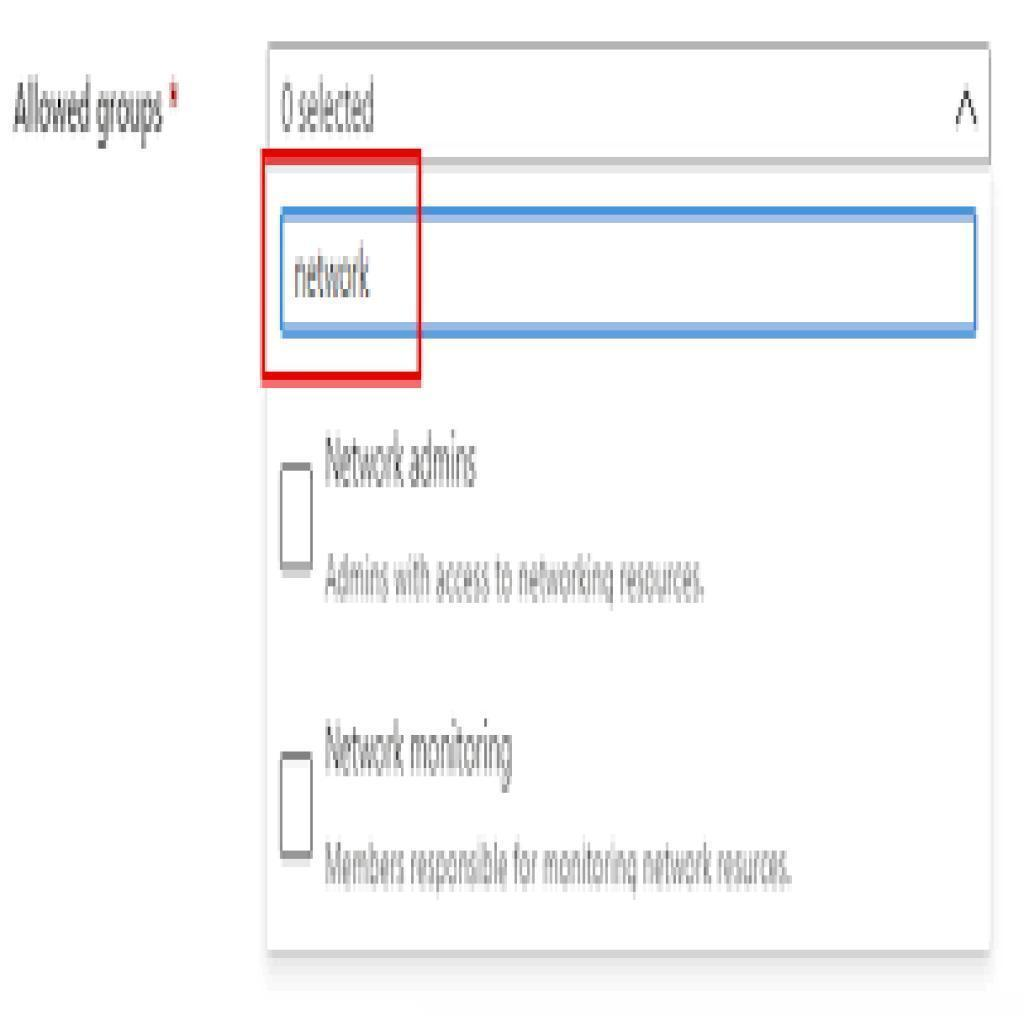checkbox: (280, 468, 312, 566), (280, 754, 311, 854)
dropdown: (259, 34, 991, 177)
